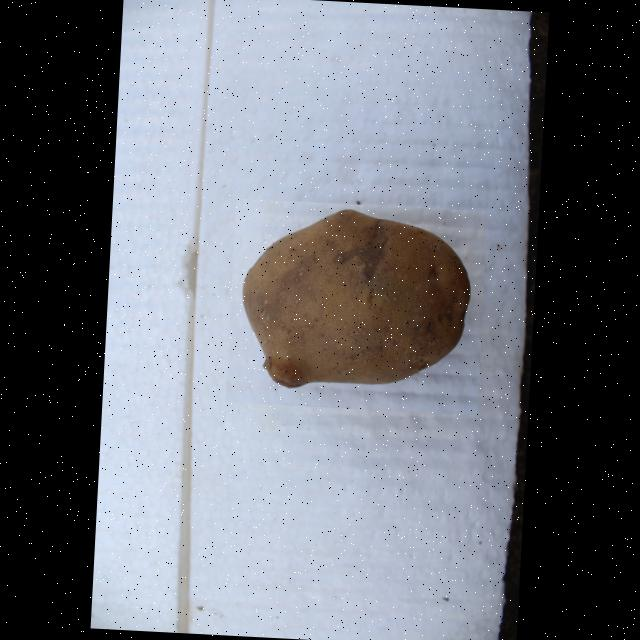Damaged potato: (226, 198, 488, 414)
